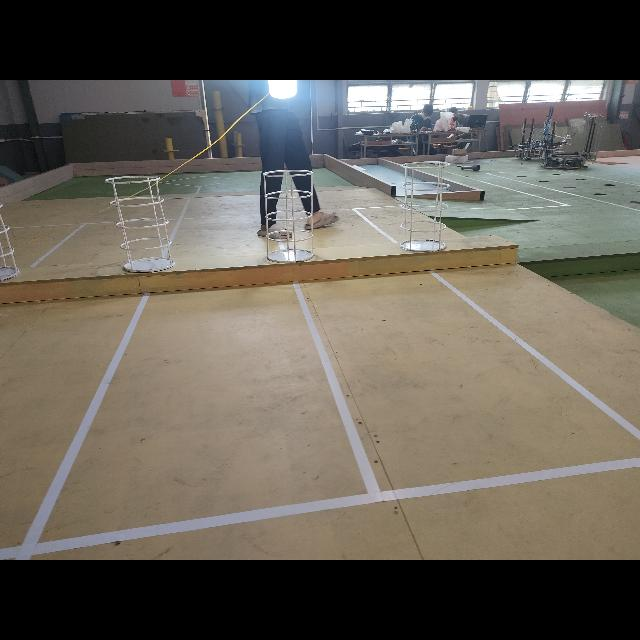S: (104, 174, 178, 274), (262, 169, 316, 265), (400, 160, 450, 254), (1, 201, 18, 283)
